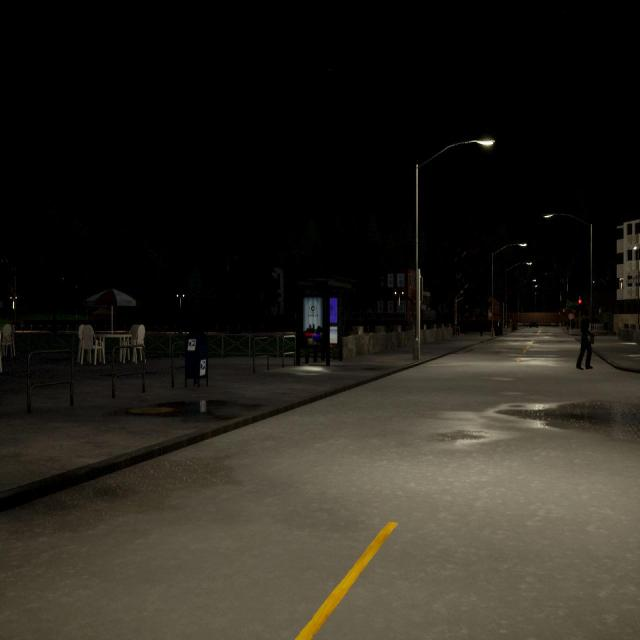Pedestrian: (576, 310, 593, 370)
Traffic_Signs: (568, 313, 574, 320)
Vehicle: (530, 320, 538, 328)
traffic_light: (421, 277, 424, 302), (578, 299, 582, 308), (563, 309, 565, 315), (558, 312, 560, 316)
